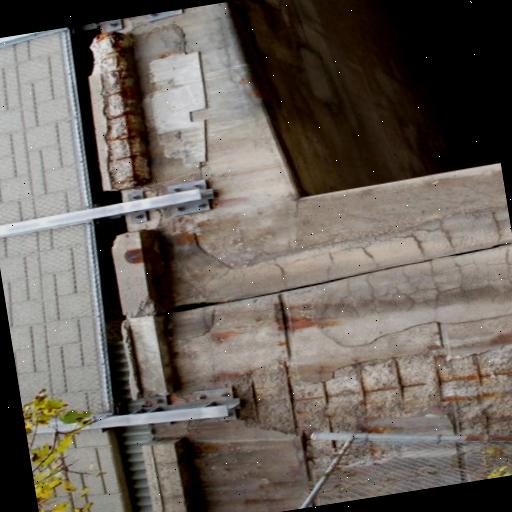spalling: (288, 343, 512, 435), (95, 32, 150, 187)
